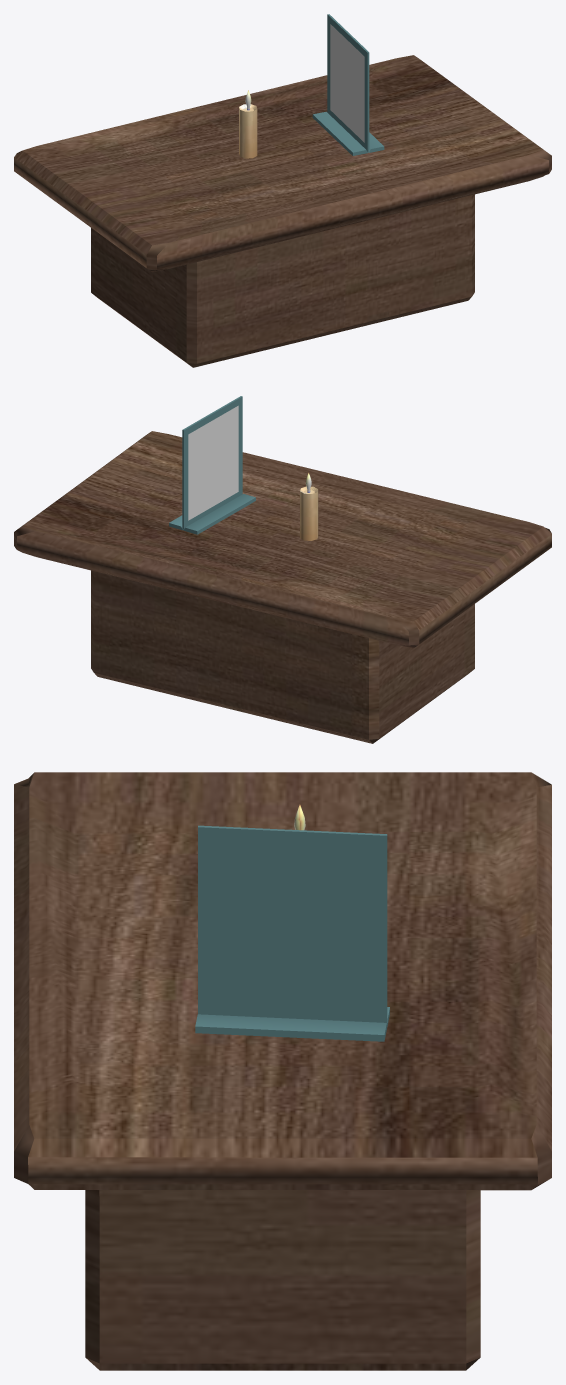
The model's file is level2.fbx.
3 views of the same model, one above another, from view 1: azimuth 30°, elevation 25°; view 2: azimuth 150°, elevation 25°; view 3: azimuth 270°, elevation 25° (orthographic). The views are drawn at different scales.
Parts seen in each view (by area): view 1: level2; view 2: level2; view 3: level2.
Boxes of the visible parts, <box> form: level2: <box>14,14,551,367</box>; level2: <box>14,396,551,743</box>; level2: <box>14,772,551,1370</box>.
Bounding box in the file's own units: 309 × 180 × 185.
5 materials, 3 textured.
